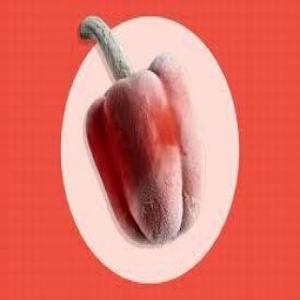bell_pepper: (72, 13, 215, 258)
